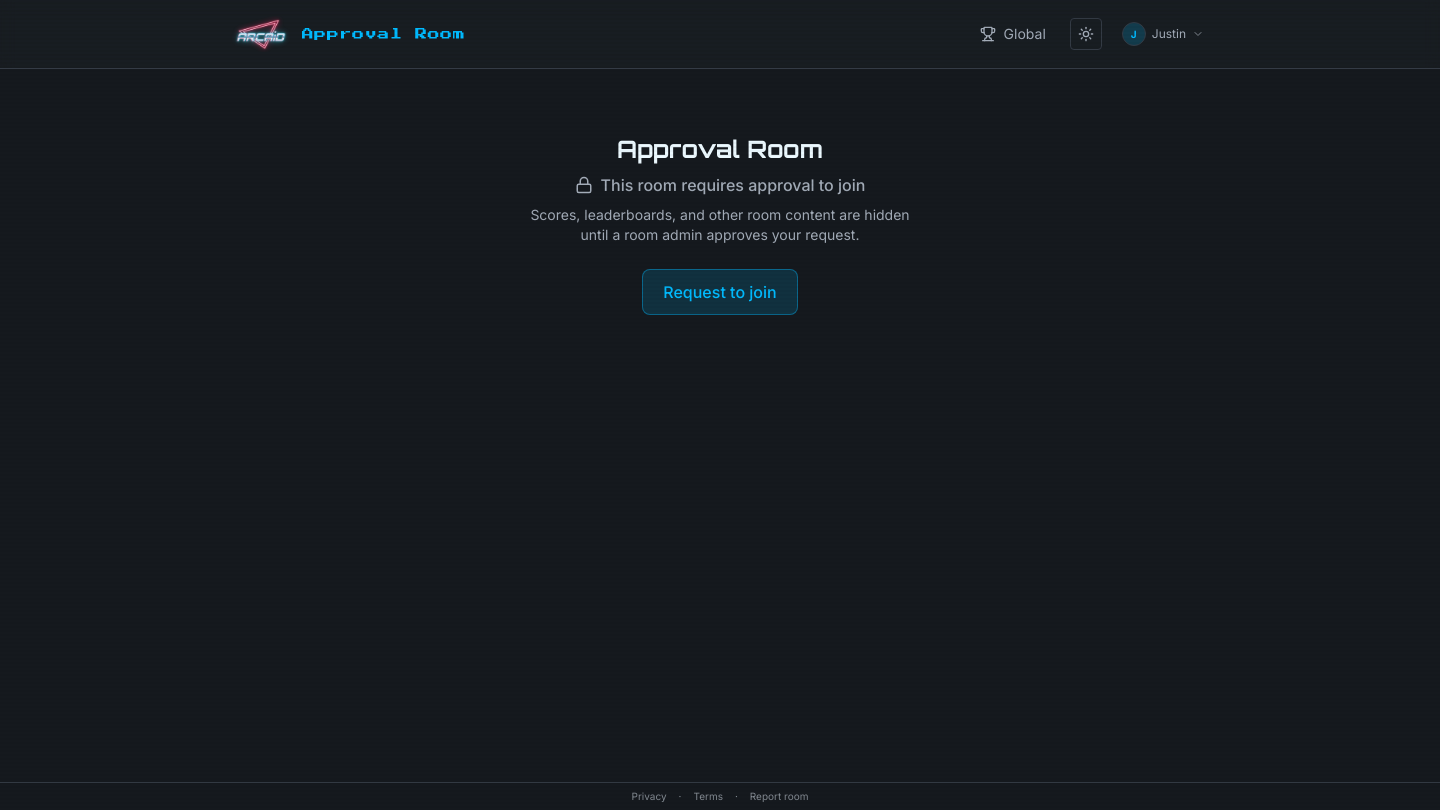
Test: PublicLayout › approval-room view gate › signed-in non-member: shows "Request to join" and posts to the join-request endpoint
Step 1. Click the button "Request to join" → click(720, 292), box [642,269,798,315]
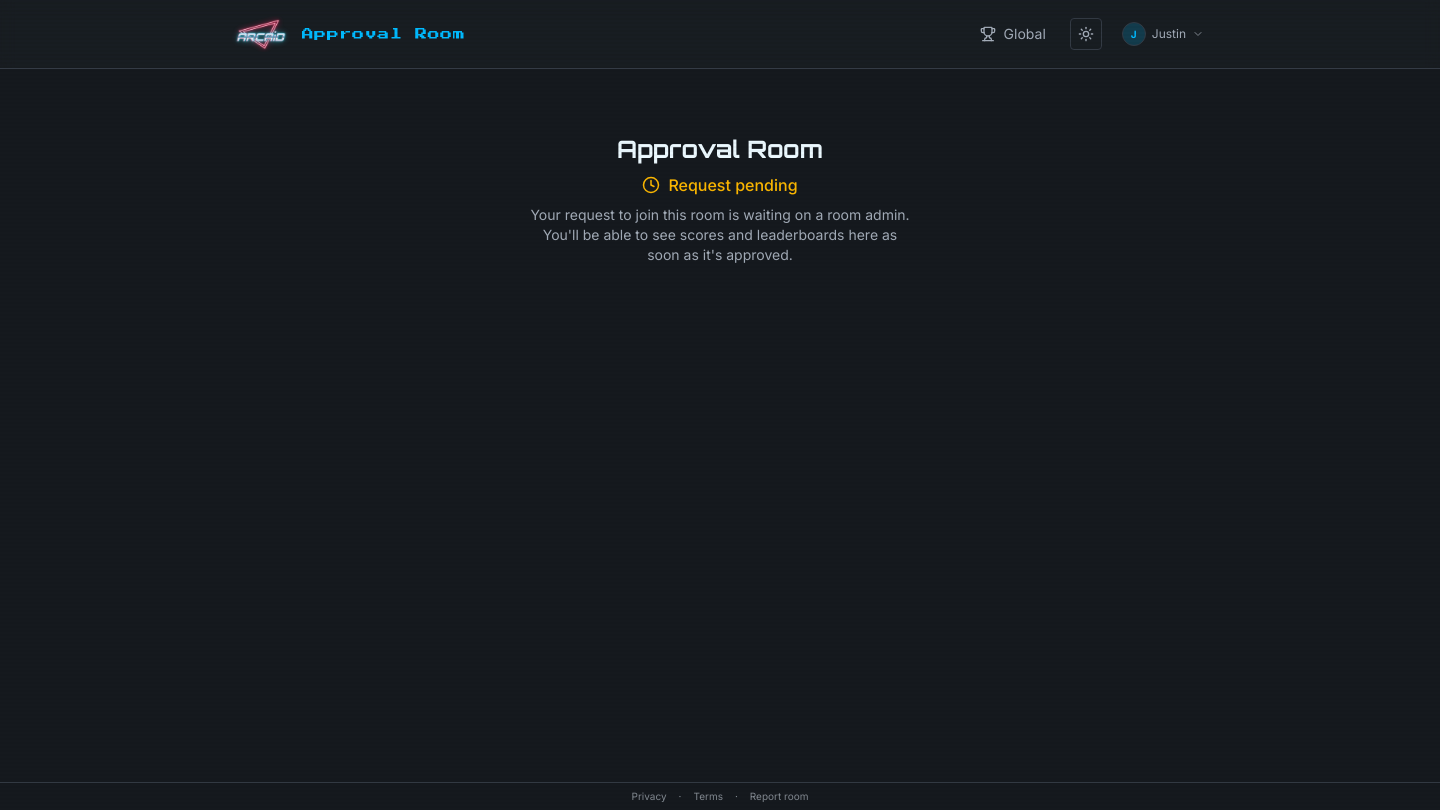
Now the text "Request pending" is shown, box [668,173,798,197]
